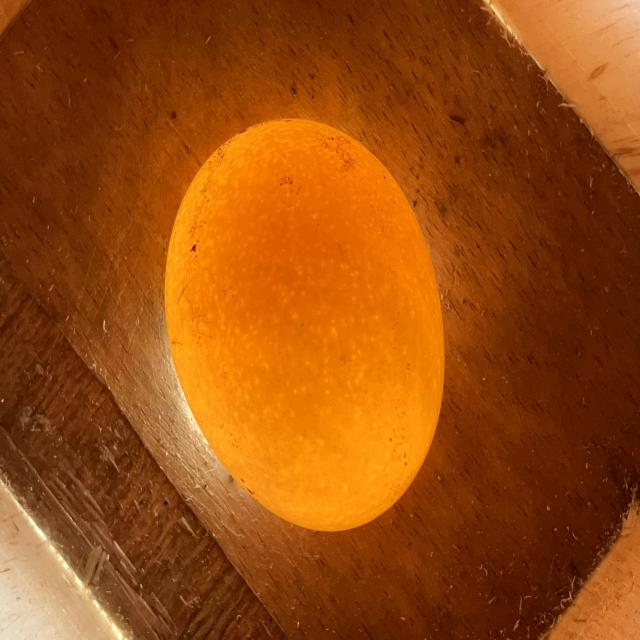infertile: (165, 120, 444, 530)
